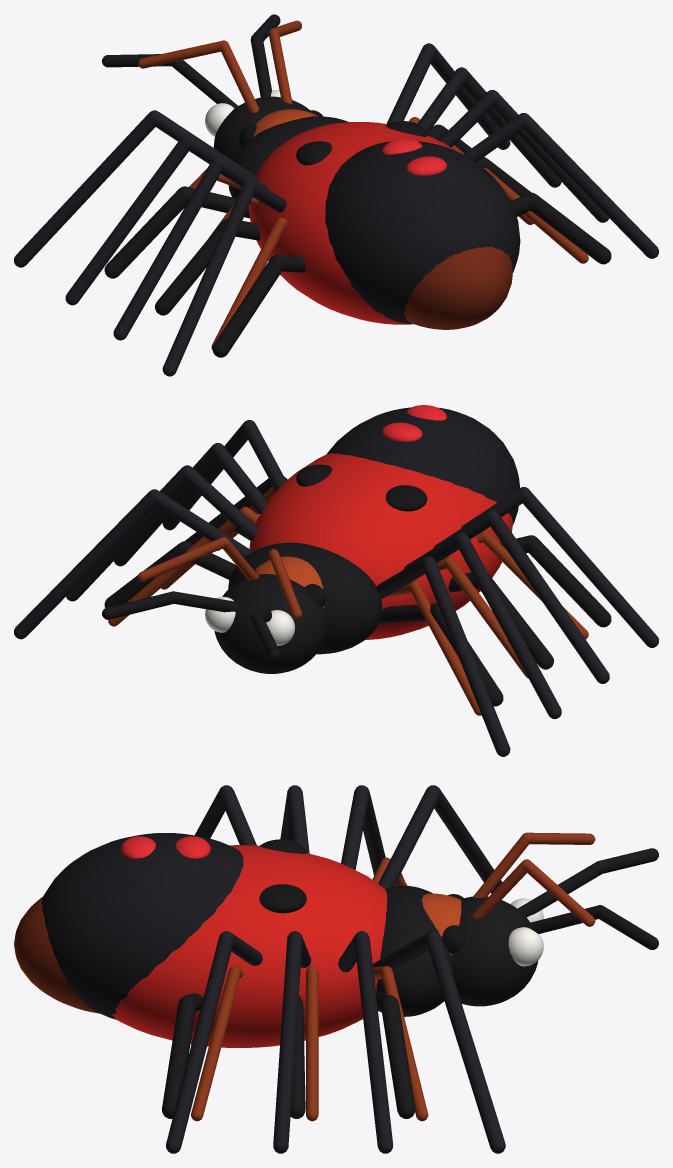
The model's file is bugs.glb.
3 views of the same model, one above another, from view 1: azimuth 30°, elevation 25°; view 2: azimuth 150°, elevation 25°; view 3: azimuth 270°, elevation 25° (orthographic). The views are drawn at different scales.
Visible parts, largest first — view 1: Spider_Shell, Ladybug_Shell, Ant_Shell, Spider_Leg_R4, Spider_Leg_L1, Spider_Leg_L4, Spider_Leg_L2, Spider_Leg_L3, Spider_Leg_R3, Ladybug_Leg_L1, Ladybug_Leg_L3, Spider_Leg_R2 (+16 smaller); view 2: Ladybug_Shell, Spider_Shell, Ladybug_Head, Ladybug_Thorax, Spider_Leg_R1, Spider_Leg_L1, Spider_Leg_L2, Spider_Leg_L4, Spider_Leg_L3, Spider_Leg_R2, Spider_Leg_R3, Spider_Leg_R4 (+19 smaller); view 3: Ladybug_Shell, Spider_Shell, Ladybug_Head, Ladybug_Thorax, Spider_Leg_R1, Spider_Leg_R4, Spider_Leg_R2, Spider_Leg_R3, Ant_Shell, Spider_Leg_L1, Ladybug_Leg_R1, Ladybug_Leg_R3 (+16 smaller).
Boxes of the visible parts, x1=… form: Spider_Shell: x1=325, y1=141, x2=520, y2=324; Ladybug_Shell: x1=249, y1=122, x2=456, y2=324; Ant_Shell: x1=404, y1=246, x2=512, y2=329; Spider_Leg_R4: x1=463, y1=113, x2=658, y2=258; Spider_Leg_L1: x1=14, y1=110, x2=255, y2=267; Spider_Leg_L4: x1=162, y1=179, x2=286, y2=376; Spider_Leg_L2: x1=65, y1=134, x2=257, y2=305; Spider_Leg_L3: x1=113, y1=157, x2=267, y2=340; Spider_Leg_R3: x1=438, y1=90, x2=609, y2=222; Ladybug_Leg_L1: x1=104, y1=186, x2=249, y2=278; Ladybug_Leg_L3: x1=212, y1=254, x2=305, y2=357; Spider_Leg_R2: x1=417, y1=67, x2=561, y2=187; Ladybug_Shell: x1=249, y1=453, x2=512, y2=639; Spider_Shell: x1=327, y1=407, x2=519, y2=525; Ladybug_Head: x1=214, y1=574, x2=327, y2=673; Ladybug_Thorax: x1=228, y1=542, x2=382, y2=654; Spider_Leg_R1: x1=14, y1=489, x2=253, y2=639; Spider_Leg_L1: x1=376, y1=556, x2=510, y2=756; Spider_Leg_L2: x1=403, y1=532, x2=561, y2=719; Spider_Leg_L4: x1=461, y1=487, x2=658, y2=647; Spider_Leg_L3: x1=433, y1=509, x2=609, y2=683; Spider_Leg_R2: x1=66, y1=465, x2=257, y2=601; Spider_Leg_R3: x1=114, y1=443, x2=267, y2=566; Spider_Leg_R4: x1=162, y1=420, x2=285, y2=530; Ladybug_Shell: x1=112, y1=845, x2=387, y2=1047; Spider_Shell: x1=42, y1=833, x2=243, y2=1019; Ladybug_Head: x1=452, y1=896, x2=538, y2=1006; Ladybug_Thorax: x1=376, y1=885, x2=452, y2=1016; Spider_Leg_R1: x1=372, y1=931, x2=505, y2=1153; Spider_Leg_R4: x1=166, y1=931, x2=262, y2=1153; Spider_Leg_R2: x1=338, y1=931, x2=393, y2=1153; Spider_Leg_R3: x1=273, y1=931, x2=311, y2=1153; Ant_Shell: x1=14, y1=897, x2=99, y2=1013; Spider_Leg_L1: x1=378, y1=785, x2=502, y2=893; Ladybug_Leg_R1: x1=375, y1=991, x2=415, y2=1118; Ladybug_Leg_R3: x1=162, y1=993, x2=203, y2=1118.
Size of the model in its own units: 2.38 by 0.806 by 2.47.
